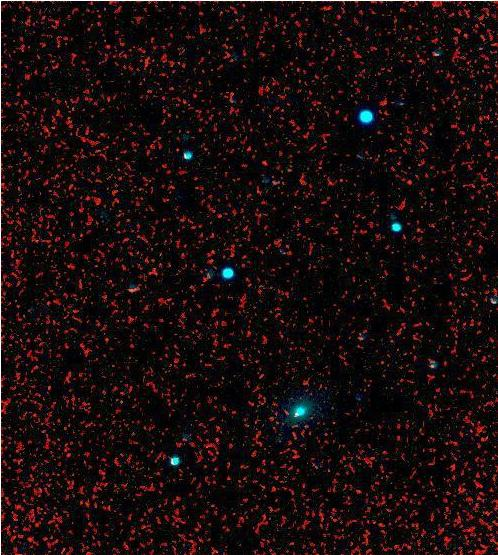star: (246, 149, 276, 179)
